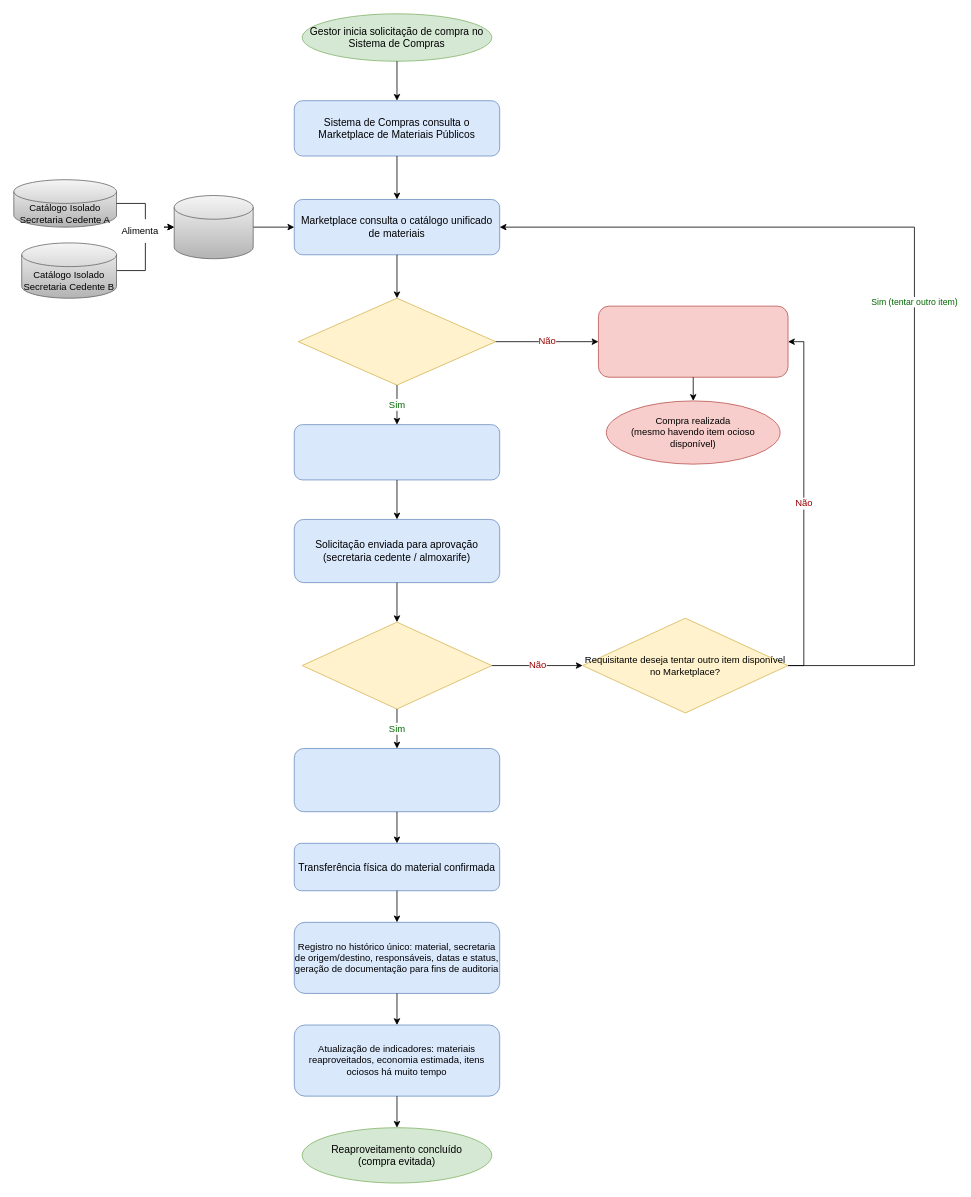
Some shapes in this 971 by 1197 pixel diagram are drawn without their labels. Here are the shapes that lost their labels. From the top down, the centre of each, then its label:
At (213,227): "Catálogo centralizado".
At (396,341): "Existe material compatível disponível para reaproveitamento?".
At (693,341): "Processo continua normalmente no Sistema de Compras existente".
At (396,452): "Fluxo direciona o gestor para solicitação de transferência".
At (396,665): "Aprovação concedida?".
At (396,780): "Registro patrimonial (baixa na cedente / incorporação na requisitante)".
